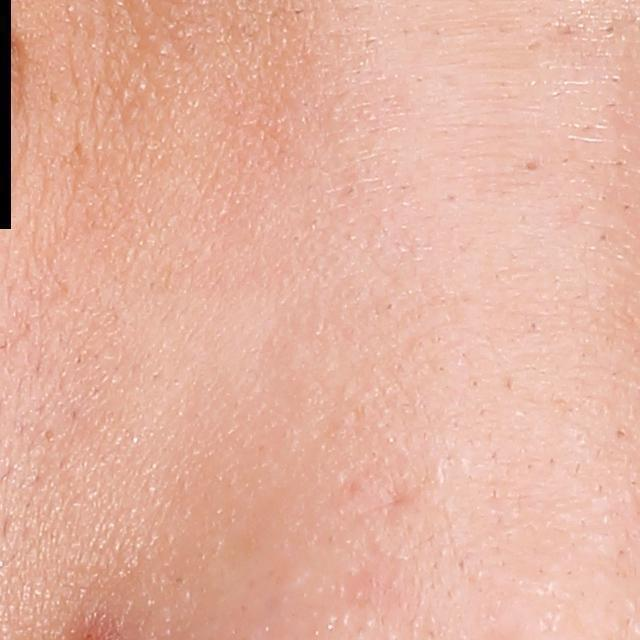comedo: (520, 153, 544, 175), (602, 22, 616, 39)
